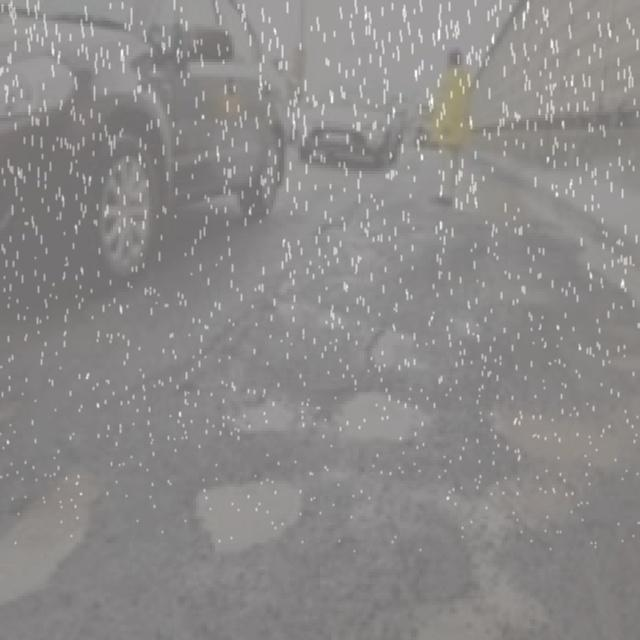Pothole: (0, 446, 148, 622), (470, 345, 640, 476), (162, 446, 322, 571), (303, 366, 443, 460), (511, 461, 617, 561), (198, 389, 304, 443), (344, 317, 444, 369)
